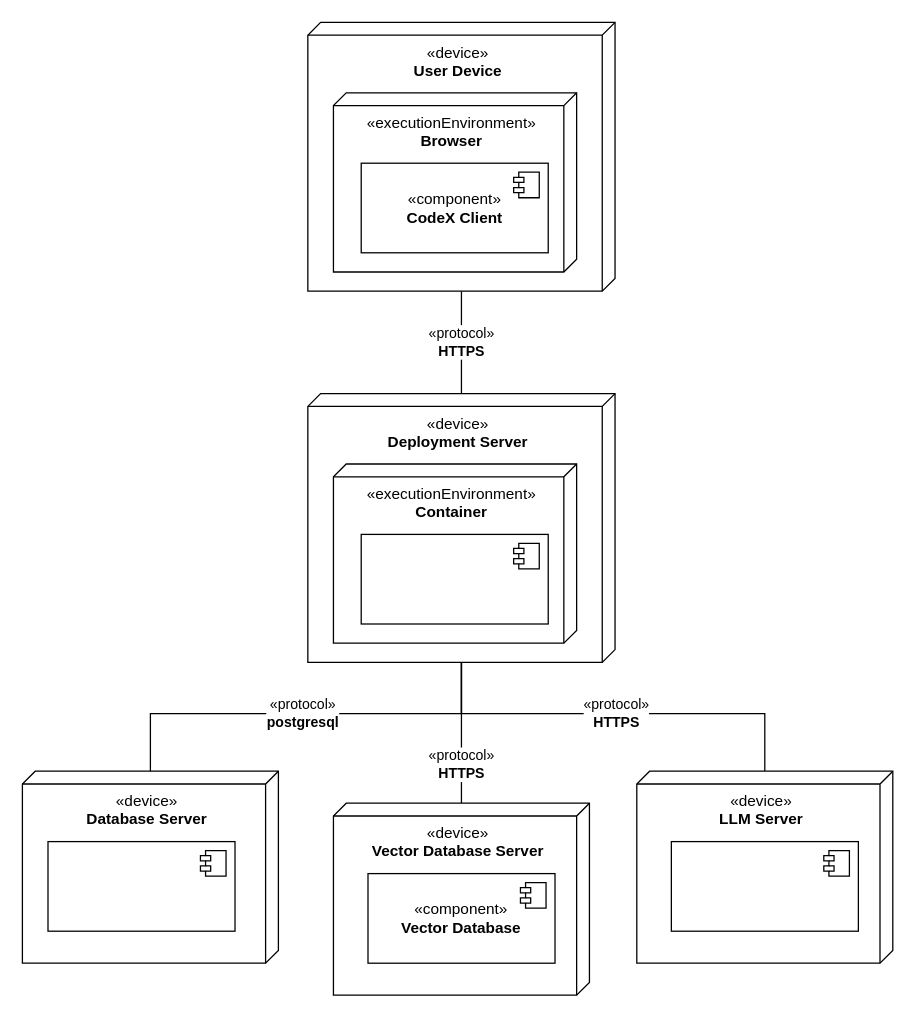
The diagram is 915 pixels wide and 1018 high, and some of its shapes have lost their labels. Here are the shapes that lost their labels. From the top down, the centre of each, then its label:
At pixel 454 578: "«component» CodeX Server".
At pixel 141 885: "«component» Relational Database".
At pixel 764 885: "«component» Large Language Model".
